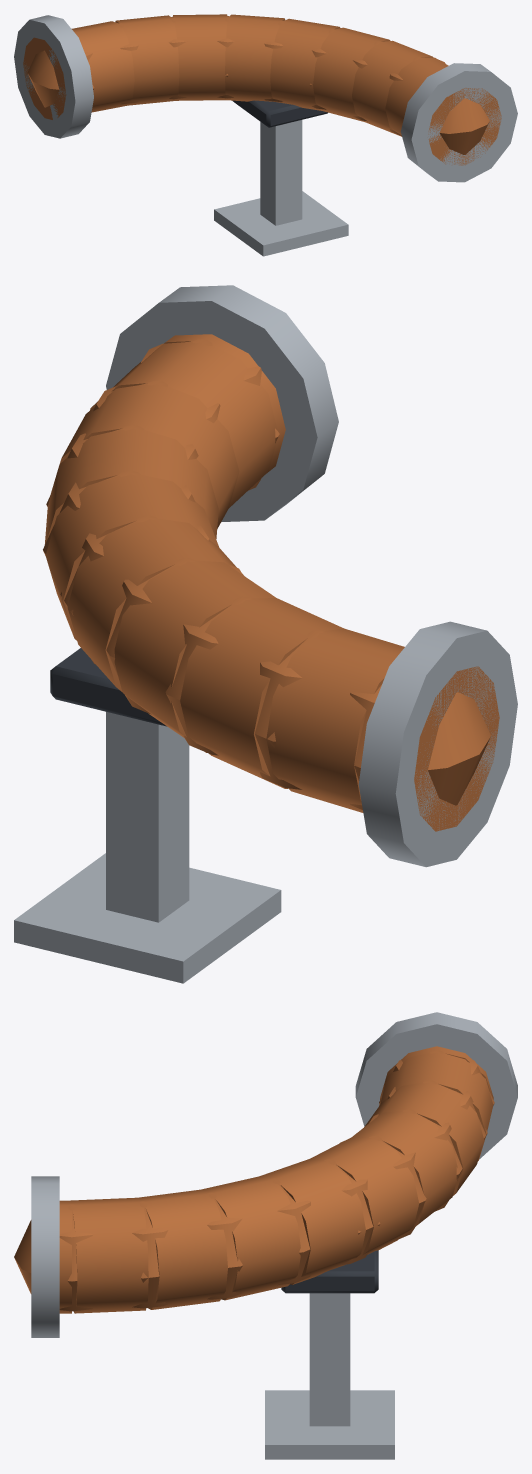
File: pipe_corner.glb
3 views of the same model, one above another, from view 1: azimuth 30°, elevation 25°; view 2: azimuth 150°, elevation 25°; view 3: azimuth 270°, elevation 25° (orthographic). The views are drawn at different scales.
Visible parts, largest first — view 1: pipe_corner; view 2: pipe_corner; view 3: pipe_corner.
Part boxes in pixels (x1,y1,x2,y2): pipe_corner: (14, 14, 517, 256); pipe_corner: (14, 285, 517, 983); pipe_corner: (14, 1012, 517, 1459).
Bounding box in the file's own units: 0.6214 × 0.4 × 0.6214.
